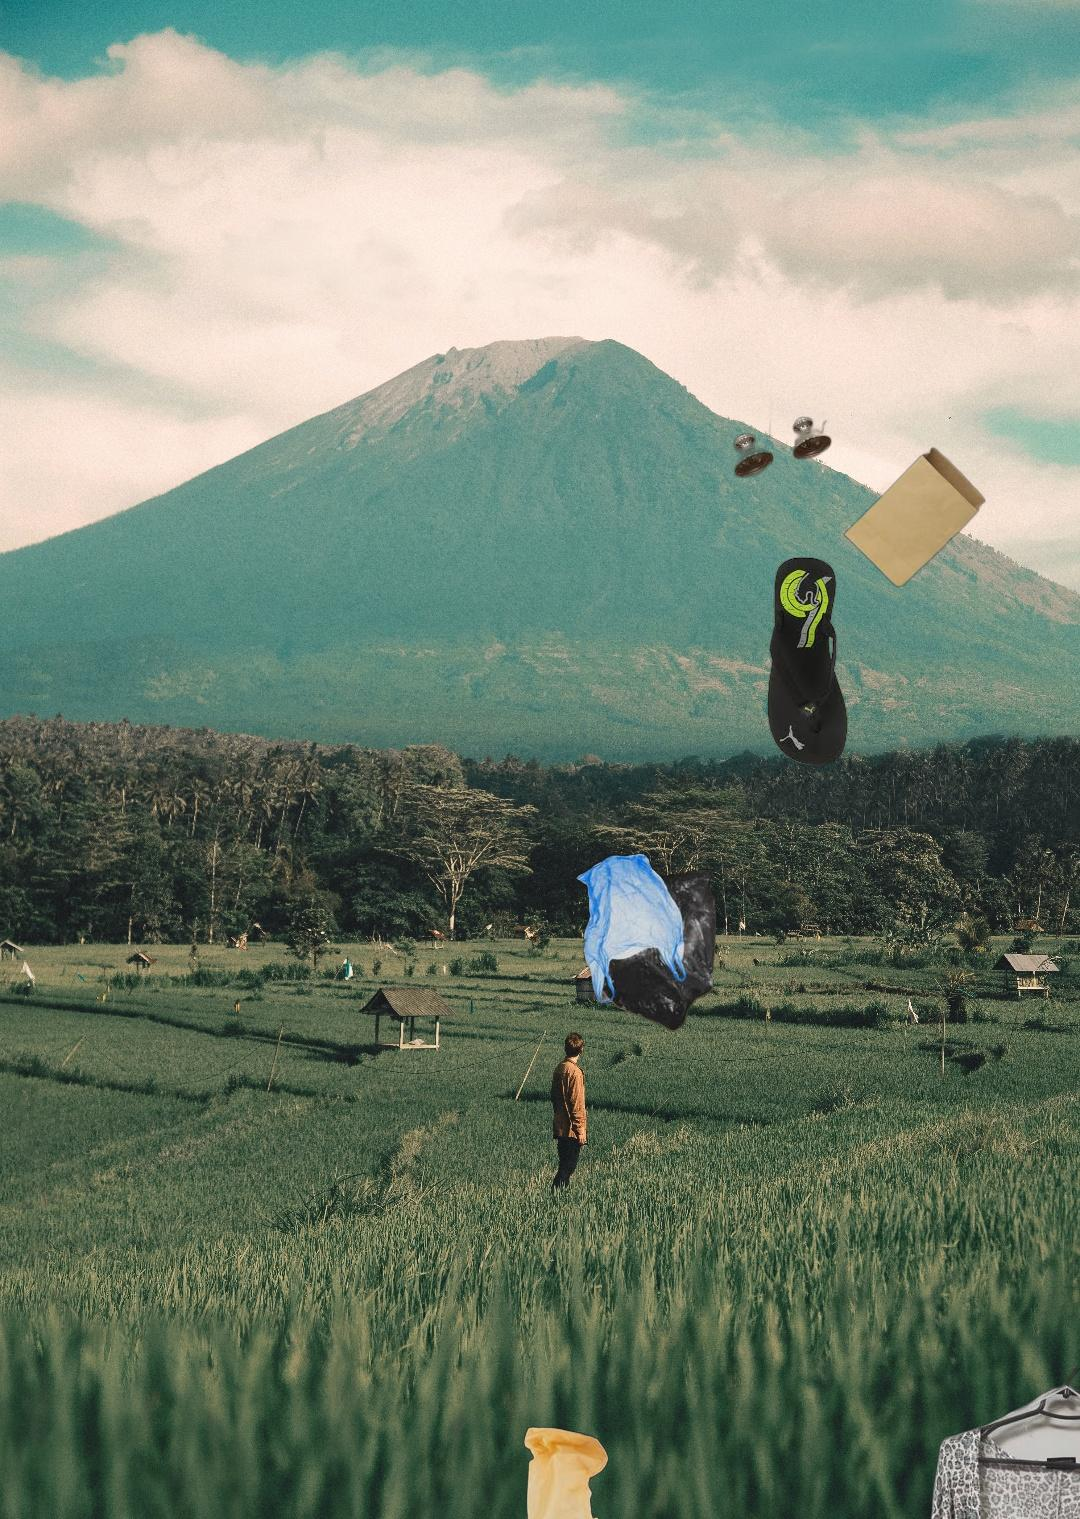clothes: (913, 1368, 1080, 1519)
paper-bag: (731, 391, 986, 589)
plastic-bag: (573, 851, 720, 1033), (521, 1424, 619, 1519)
shoes: (764, 554, 850, 768)
